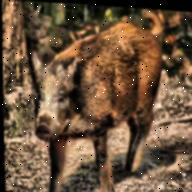boar: (33, 4, 160, 174)
